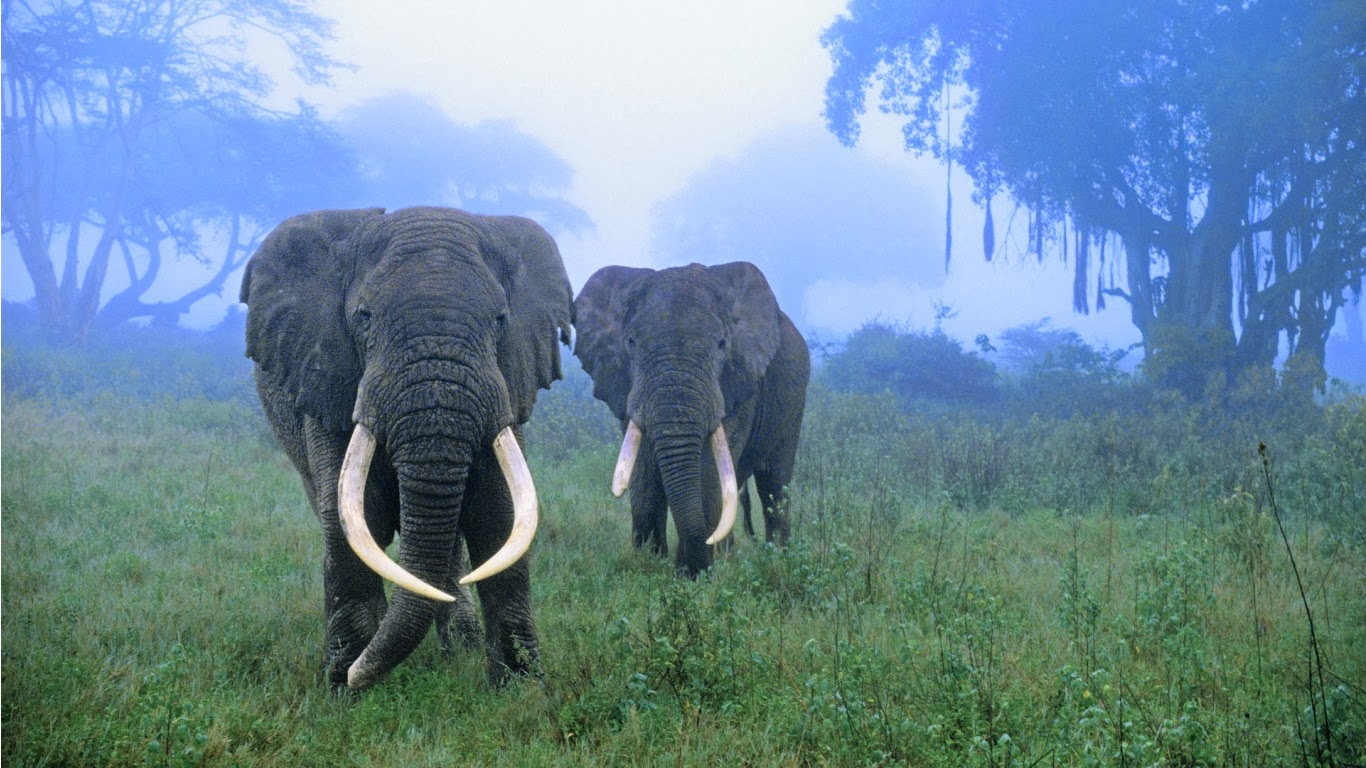africanelephant: (285, 189, 610, 620), (595, 285, 778, 541)
